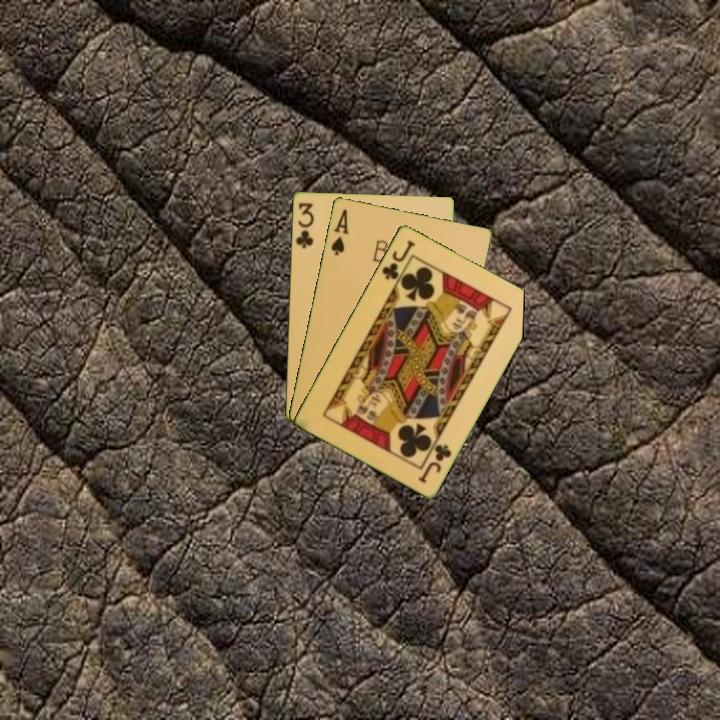3c: (292, 199, 316, 251)
As: (327, 205, 351, 258)
Jc: (378, 236, 418, 282), (415, 440, 454, 486)
